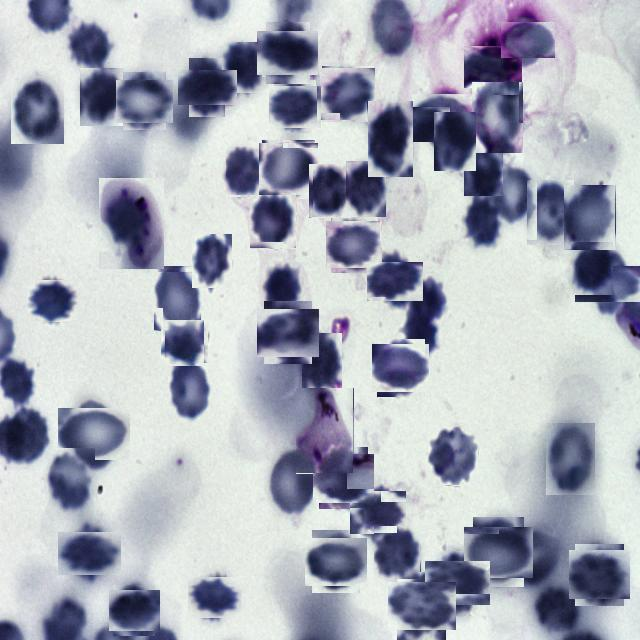red blood cell: (62, 402, 126, 465), (472, 82, 524, 154), (468, 522, 529, 582), (267, 447, 319, 516), (546, 423, 595, 495), (11, 78, 64, 144), (367, 101, 412, 177), (564, 185, 616, 250), (416, 88, 474, 146), (392, 577, 450, 635), (527, 180, 575, 246), (308, 534, 364, 590), (260, 142, 316, 198), (46, 448, 95, 512), (572, 546, 628, 602), (260, 304, 316, 360), (154, 266, 202, 331), (316, 450, 371, 506), (430, 556, 485, 611), (428, 427, 479, 486), (321, 67, 375, 121), (62, 526, 116, 580), (167, 356, 211, 421), (2, 407, 50, 466), (583, 258, 636, 311), (374, 342, 428, 394), (486, 166, 534, 224), (328, 218, 381, 270), (262, 26, 314, 79), (250, 193, 297, 249), (80, 68, 124, 126), (468, 41, 518, 92), (374, 526, 421, 580), (354, 488, 404, 538), (120, 76, 170, 126), (434, 112, 476, 171), (68, 20, 113, 72), (302, 333, 342, 391), (261, 261, 303, 316), (191, 574, 239, 622), (271, 82, 319, 130), (183, 64, 231, 112), (222, 42, 266, 94), (309, 164, 351, 218), (371, 258, 418, 306), (346, 161, 386, 217), (571, 242, 613, 295), (464, 140, 503, 196), (29, 278, 76, 324), (111, 587, 157, 634), (192, 234, 232, 288), (504, 17, 550, 63), (464, 196, 502, 248), (163, 322, 206, 365), (226, 146, 262, 196)
ring: (296, 388, 354, 474)
trophozoite: (99, 178, 164, 269)
